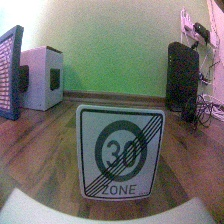dreisiger_zone_ende: (75, 104, 164, 201)
